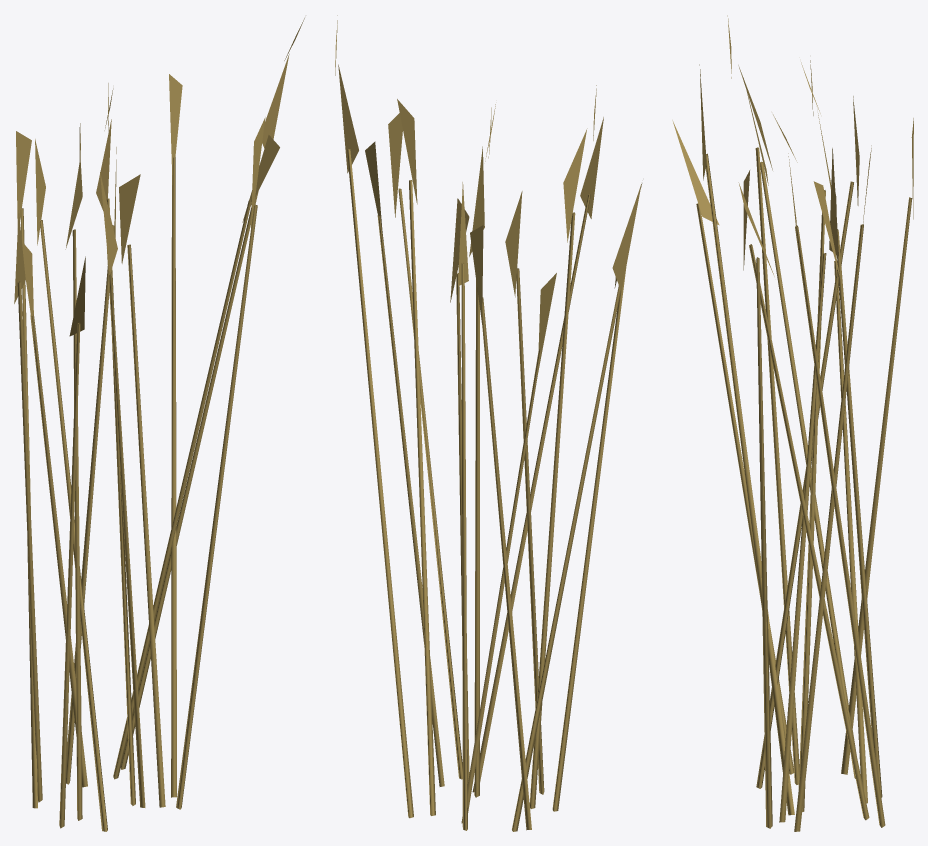
The model's file is trigo_2.glb.
3 renders of one model, left to right at view 1: azimuth 30°, elevation 25°; view 2: azimuth 150°, elevation 25°; view 3: azimuth 270°, elevation 25°, orthographic. The views are drawn at different scales.
Visible parts, largest first — view 1: trigo_2.001; view 2: trigo_2.001; view 3: trigo_2.001.
Boxes of the visible parts, <box> form: trigo_2.001: <box>14,18,304,831</box>; trigo_2.001: <box>335,15,642,831</box>; trigo_2.001: <box>672,15,913,831</box>.
Bounding box in the file's own units: 0.4476 × 1.08 × 0.3035.
